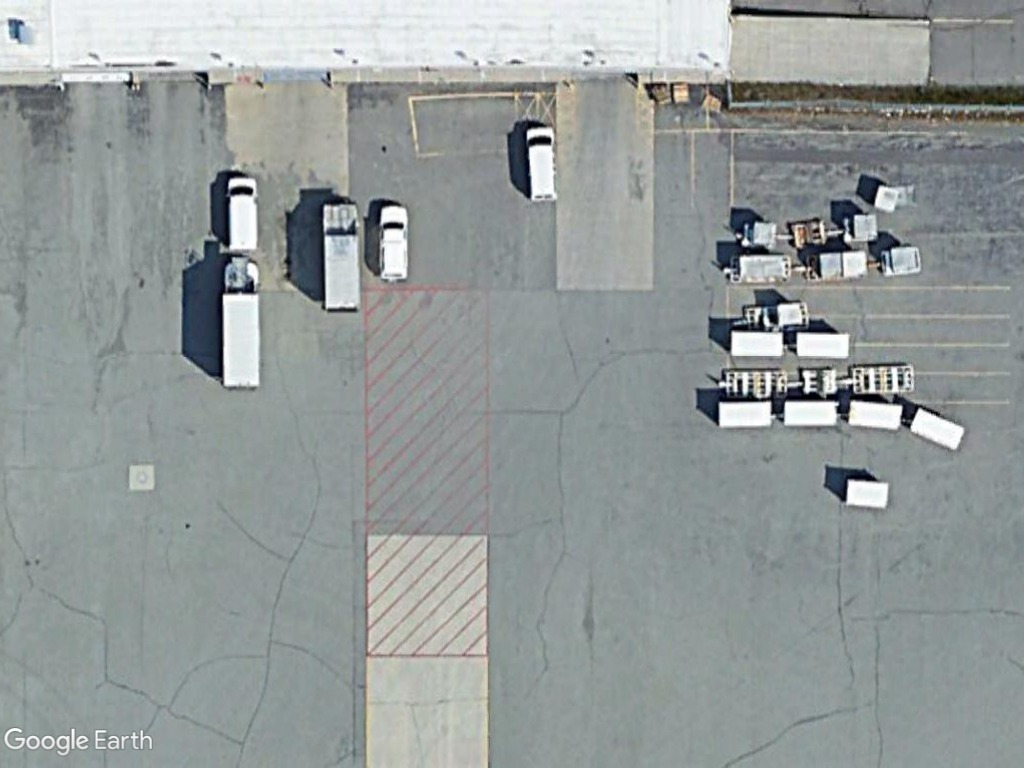car: (372, 197, 414, 286)
truck: (213, 256, 269, 390), (319, 195, 363, 318)
van: (220, 168, 266, 256), (522, 122, 562, 209)
